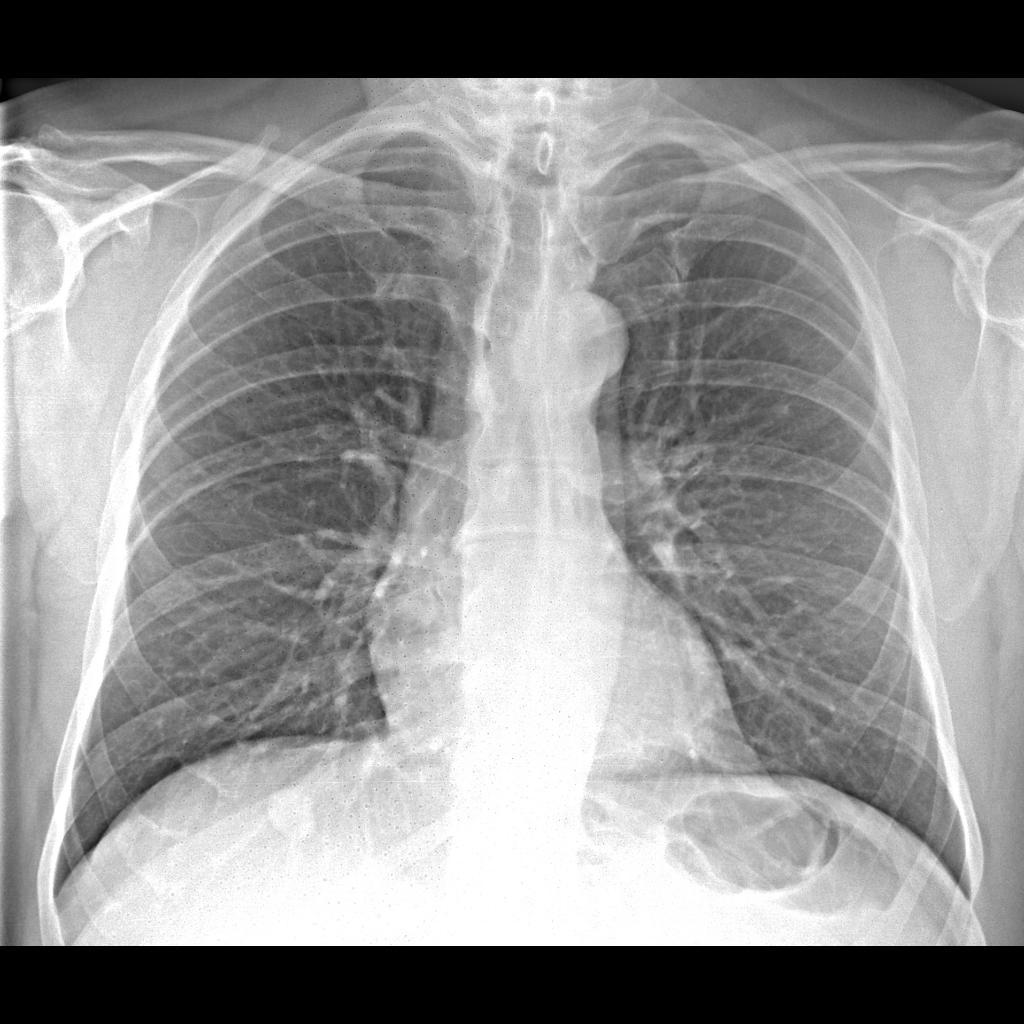Nodule: (247, 778, 325, 850)
